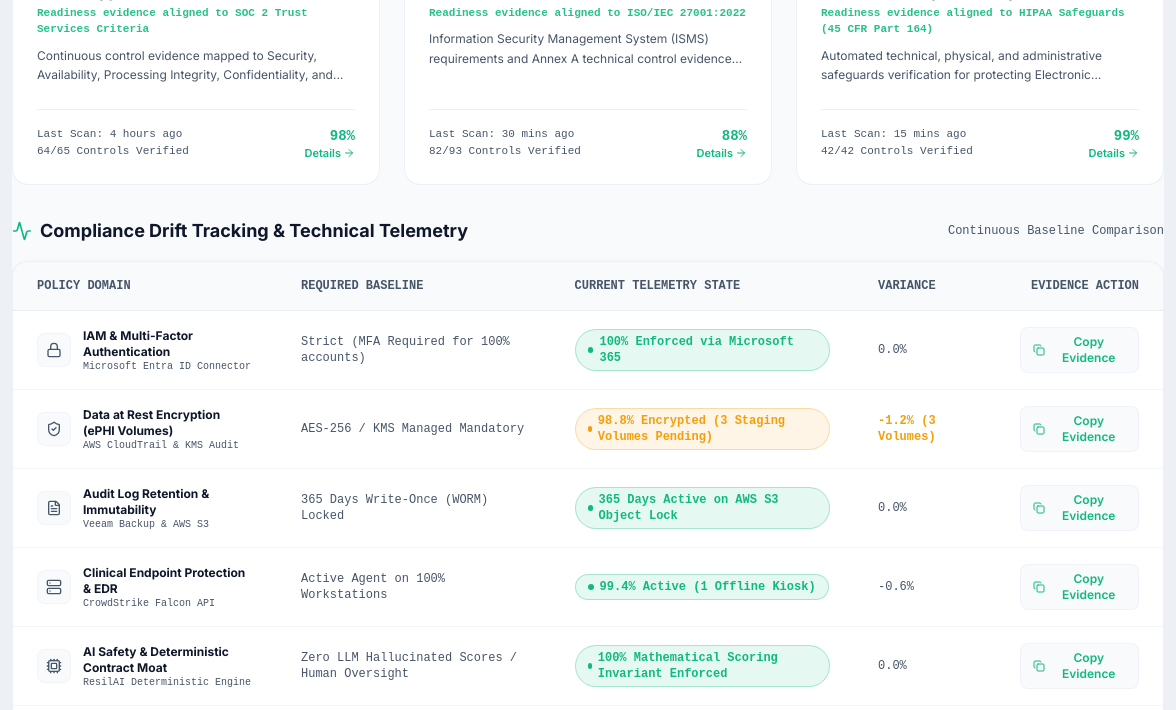
Scenario: Tier 2: Boundary & Corner Cases (R1 - R8) › R7: Documents & Governance Boundaries › T2.R7.03: Copy evidence SHA-256 hash in Governance drift table provides feedback
(page scrolled)
Check: the text "Compliance Drift Tracking & Technical Telemetry" is shown, box [40, 217, 468, 245]
Click the button "Copy Evidence" in the row of "IAM & Multi-Factor Authentication" at [1080, 350], box [1020, 327, 1139, 373]
(page scrolled)
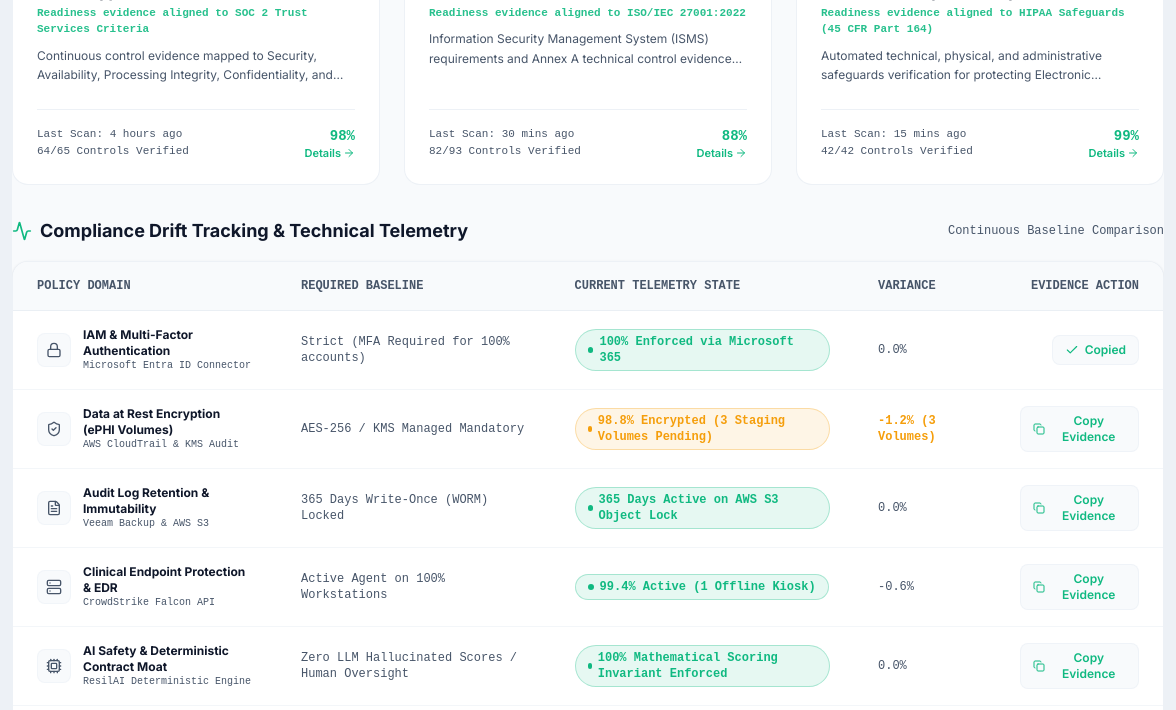
Check: the text "Copied" is shown, box [1085, 342, 1126, 358]
